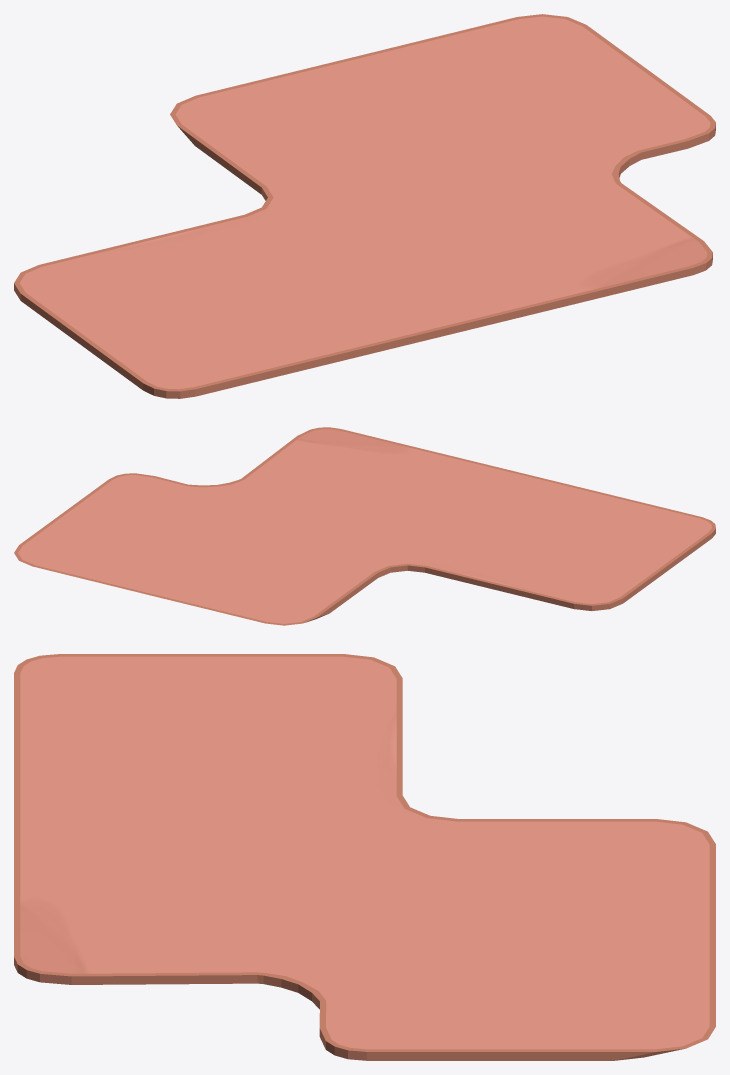
Rendered from Village earth level 2.fbx.
3 views of the same model, one above another, from view 1: azimuth 30°, elevation 25°; view 2: azimuth 150°, elevation 25°; view 3: azimuth 270°, elevation 25° (orthographic). The views are drawn at different scales.
Visible parts, largest first — view 1: Plane.006; view 2: Plane.006; view 3: Plane.006.
Boxes of the visible parts, left/top/right/bottom form: Plane.006: left=14, top=14, right=715, bottom=398; Plane.006: left=14, top=427, right=715, bottom=625; Plane.006: left=14, top=654, right=715, bottom=1060.
Size of the model in its own units: 14.92 by 0.1559 by 11.12.
